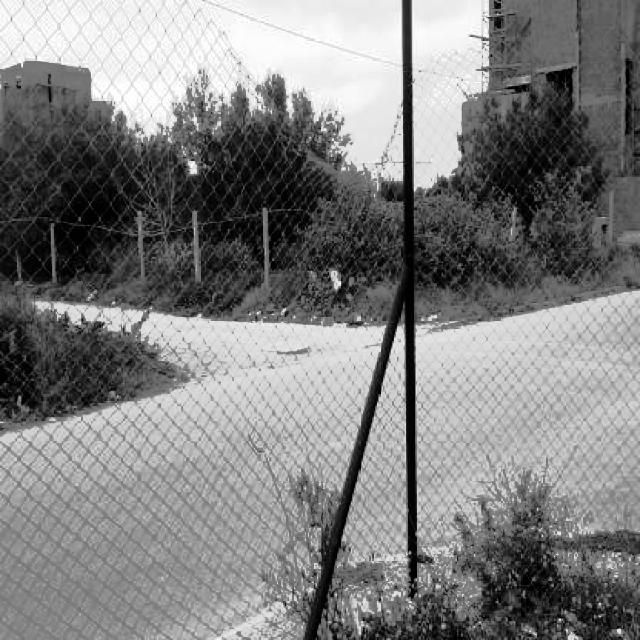anomaly-fence: (192, 3, 587, 207)
